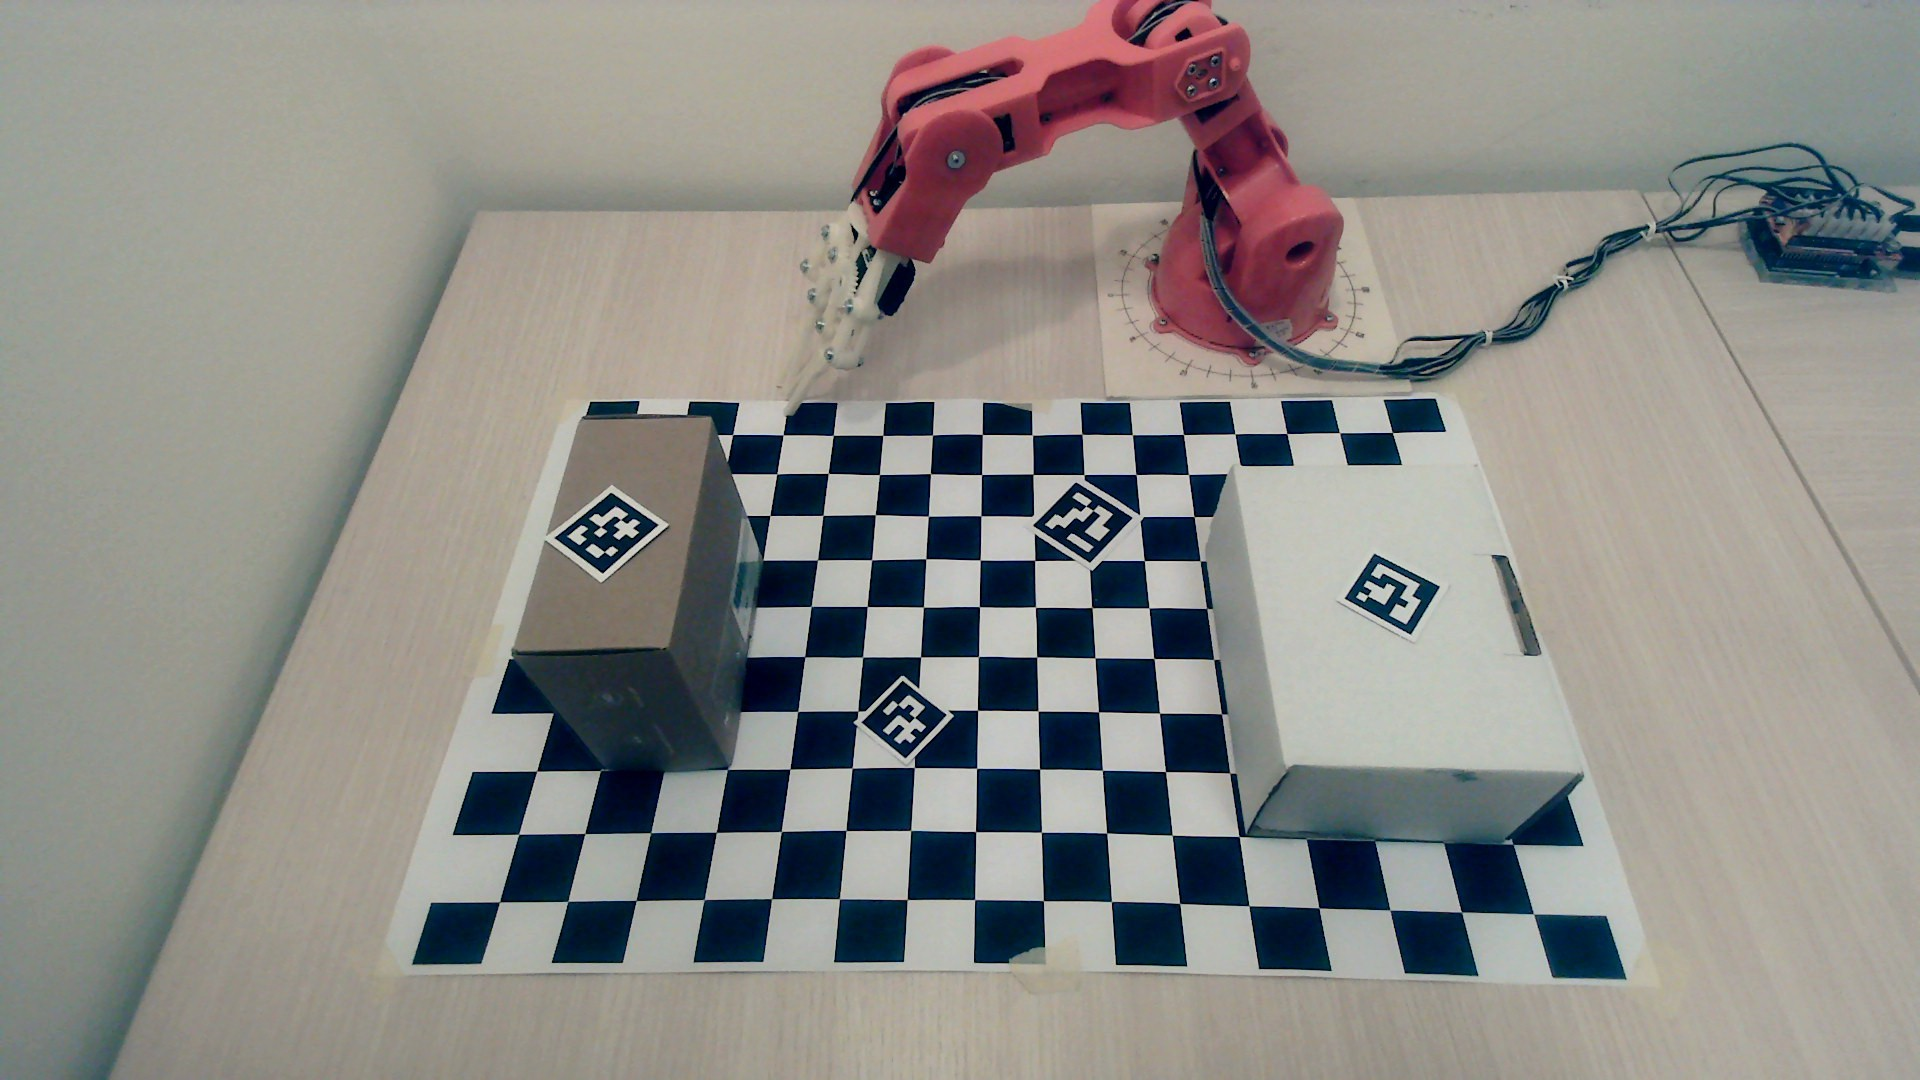marker: (545, 489, 662, 582), (1342, 553, 1443, 640), (1034, 481, 1131, 568), (862, 680, 948, 764)
